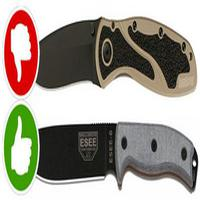knife: (29, 116, 200, 198), (35, 17, 196, 103)
